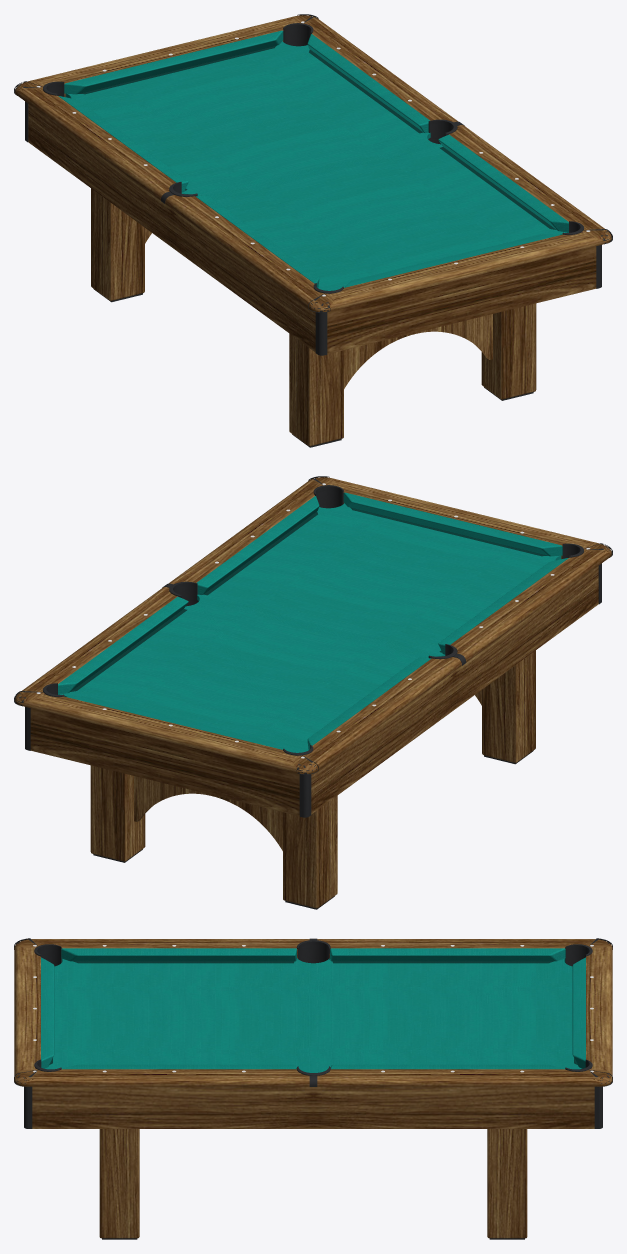
File: 7_foot.glb
The picture shows the model from 3 angles, top to bottom: view 1: azimuth 30°, elevation 25°; view 2: azimuth 150°, elevation 25°; view 3: azimuth 270°, elevation 25°; orthographic projection. The views are drawn at different scales.
Visible parts, largest first — view 1: slate, frame, legs, cushion_long, cushion_short, pocket_corner_holder, cushion_long_shadow, bevel_3, pocket_side_holder; view 2: slate, frame, legs, cushion_long, cushion_short, pocket_corner_holder, cushion_long_shadow, bevel_3, pocket_side_holder; view 3: slate, frame, cushion_long, legs, cushion_short, cushion_long_shadow, pocket_corner_holder, pocket_side_holder, bevel_3.
Part boxes in pixels (bbox=[...]): slate: bbox=[65, 41, 568, 290]; frame: bbox=[15, 15, 611, 354]; legs: bbox=[91, 188, 536, 447]; cushion_long: bbox=[58, 34, 568, 287]; cushion_short: bbox=[64, 30, 559, 287]; pocket_corner_holder: bbox=[43, 23, 583, 293]; cushion_long_shadow: bbox=[185, 50, 555, 229]; bevel_3: bbox=[25, 101, 601, 355]; pocket_side_holder: bbox=[169, 119, 457, 196]; slate: bbox=[58, 503, 561, 752]; frame: bbox=[15, 477, 611, 816]; legs: bbox=[90, 650, 535, 909]; cushion_long: bbox=[58, 496, 568, 749]; cushion_short: bbox=[67, 492, 562, 749]; pocket_corner_holder: bbox=[43, 485, 583, 755]; cushion_long_shadow: bbox=[71, 512, 441, 691]; bevel_3: bbox=[25, 563, 601, 817]; pocket_side_holder: bbox=[169, 581, 457, 659]; slate: bbox=[45, 958, 581, 1072]; frame: bbox=[14, 939, 612, 1128]; cushion_long: bbox=[61, 948, 565, 1069]; legs: bbox=[99, 1129, 527, 1239]; cushion_short: bbox=[41, 957, 585, 1068]; cushion_long_shadow: bbox=[73, 961, 553, 963]; pocket_corner_holder: bbox=[34, 944, 592, 1071]; pocket_side_holder: bbox=[296, 940, 330, 1075]; bevel_3: bbox=[24, 1086, 602, 1128].
Bounding box in the file's own units: 1.3 × 0.7556 × 2.29.
6 materials, 4 textured.
